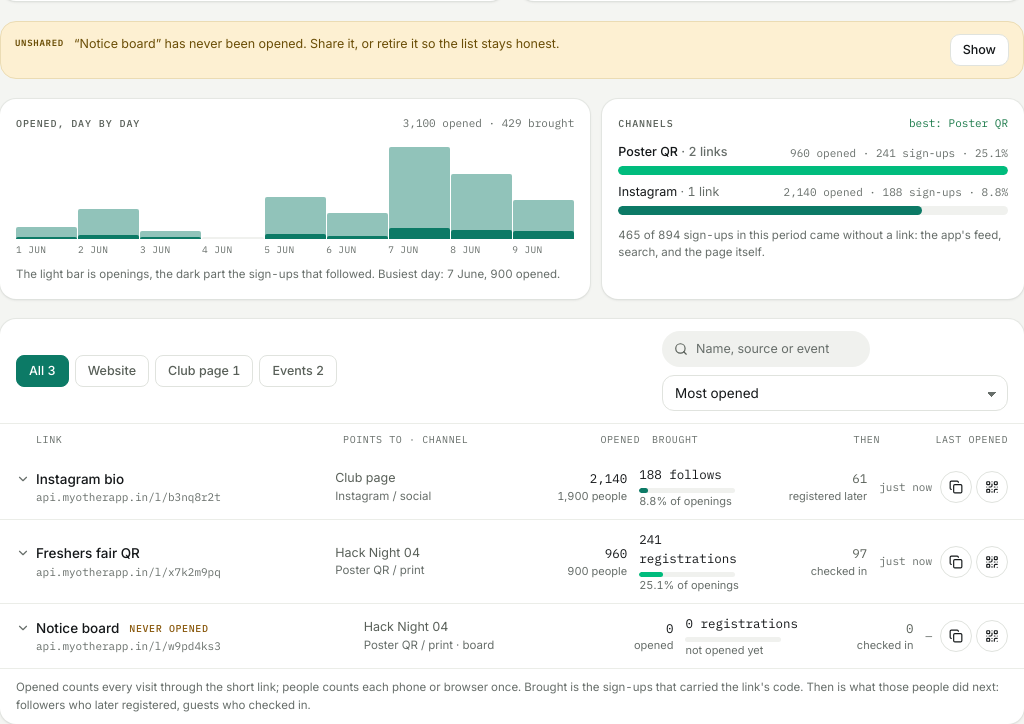
Test: tracking links › opens a link under its row: QR, days, devices and where the openings came from
The width and height of the screenshot is (1024, 724).
(page scrolled)
Click the button with aria-label "Open Freshers fair QR".
click(170, 562)  # box [16, 543, 323, 580]
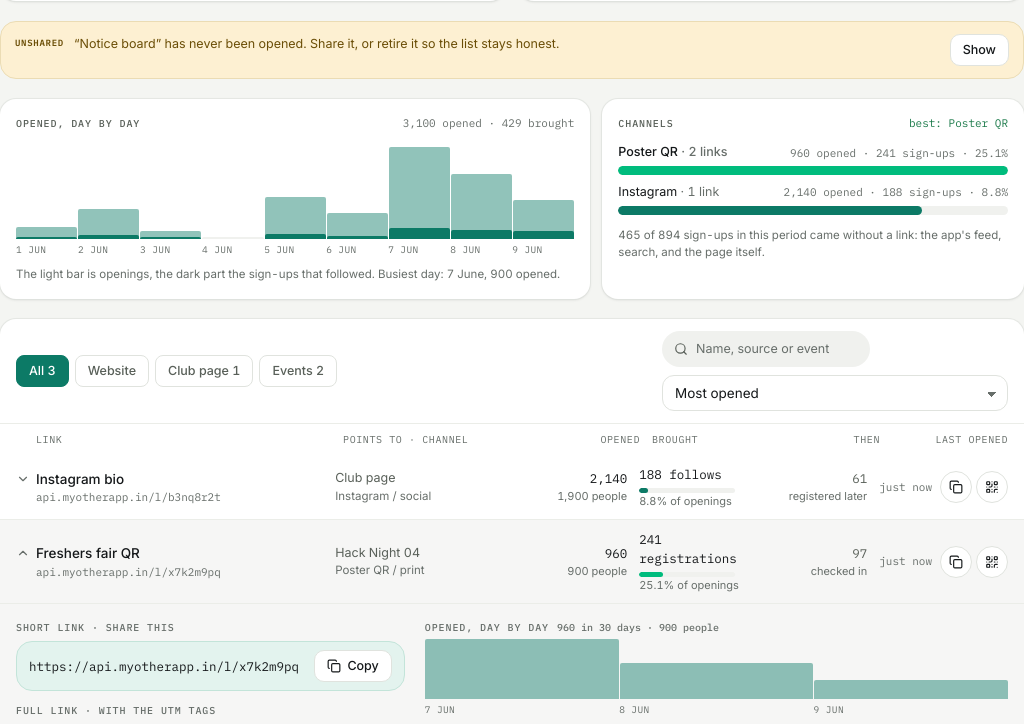
Expected: the text "Short link · share this" is shown, [16, 621, 175, 634]
Expected: the picture named "Openings of Freshers fair QR by day" is shown, [425, 635, 1008, 699]
Click the button with aria-label "Close Freshers fair QR".
click(170, 562)  # box [16, 543, 323, 580]
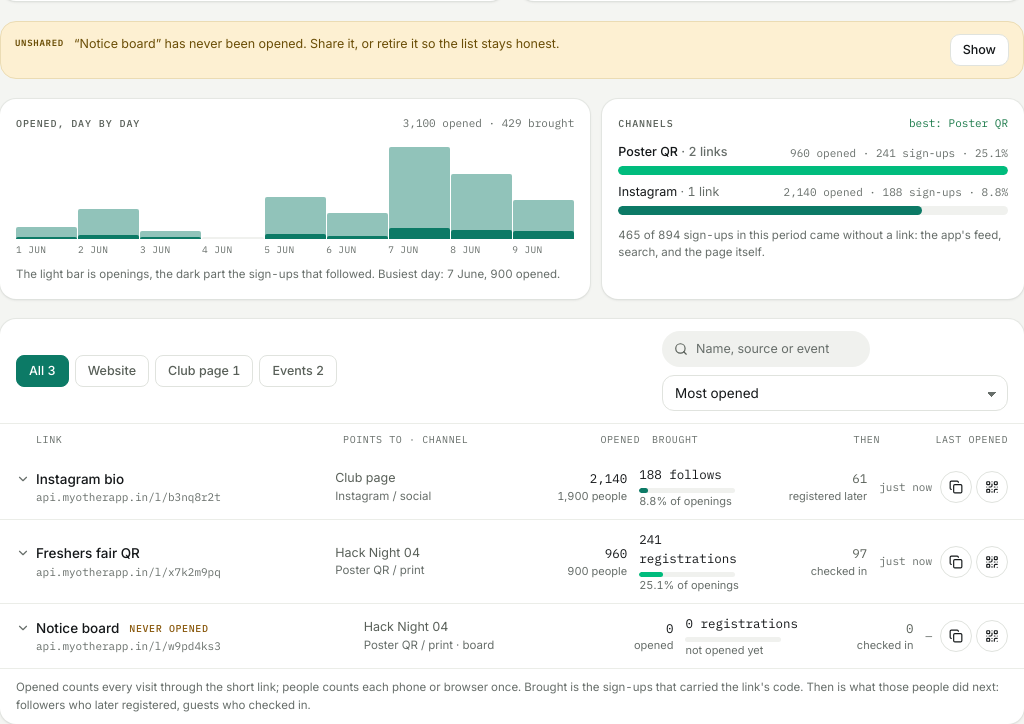
Expected: the text "Short link · share this" is gone
